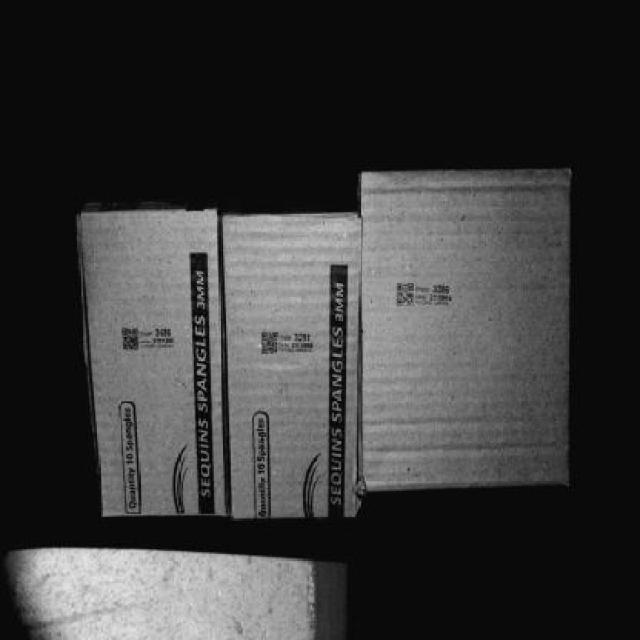cardboxes: (366, 168, 572, 483), (78, 220, 238, 526), (229, 220, 363, 520)
